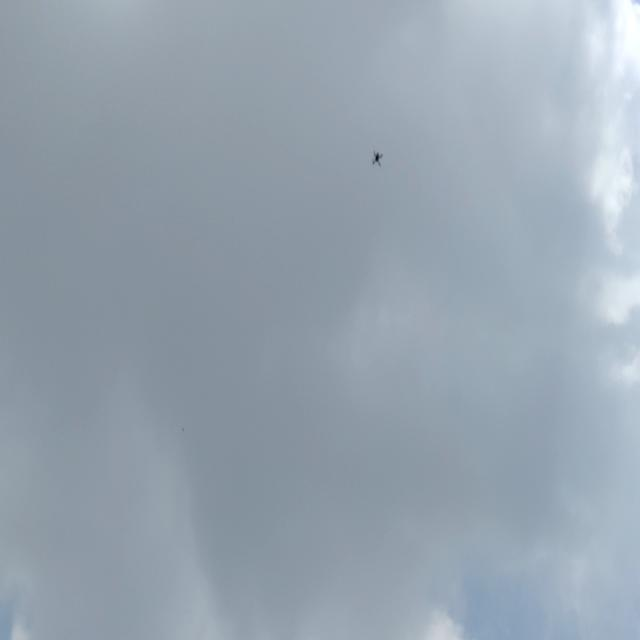drone: (369, 148, 387, 170)
